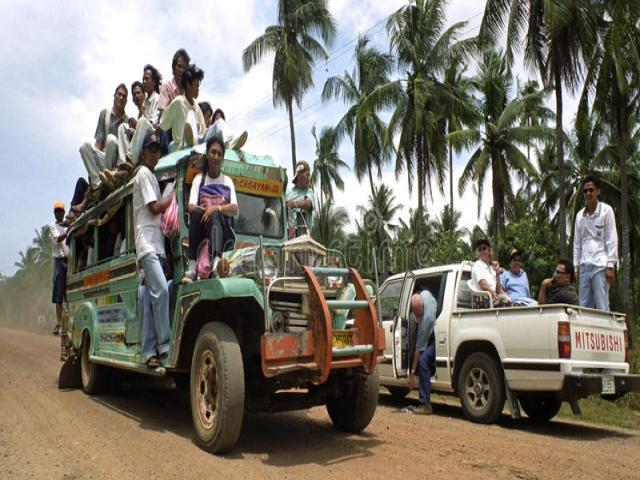jeepney: (41, 136, 398, 480)
